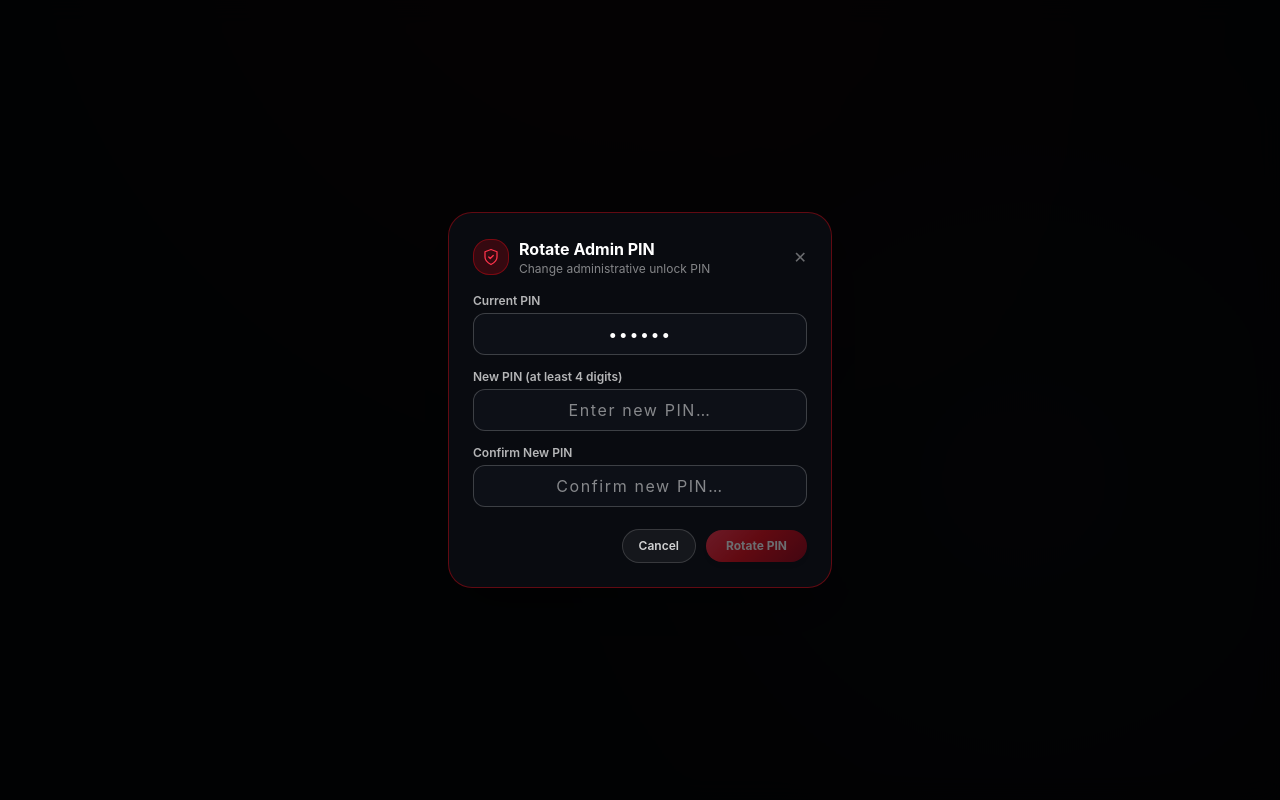
Test case: ChangeAdminPinModal › validates short PINs (< 4 digits)
This screenshot has width=1280, height=800.
Type "123" into the password field labelled "New PIN (at least 4 digits)" at (640, 410), box 473,389 -> 807,431
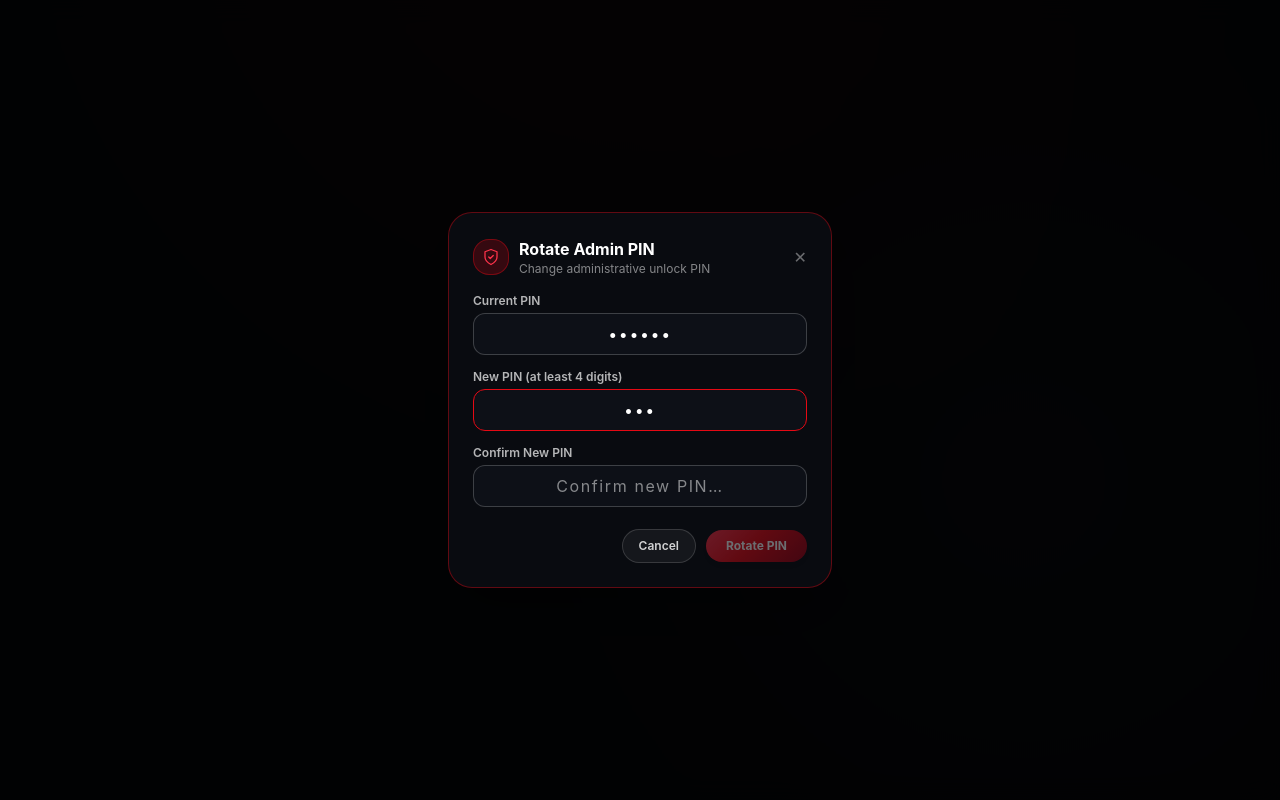
Type "123" into the password field labelled "Confirm New PIN" at (640, 486), box 473,465 -> 807,507
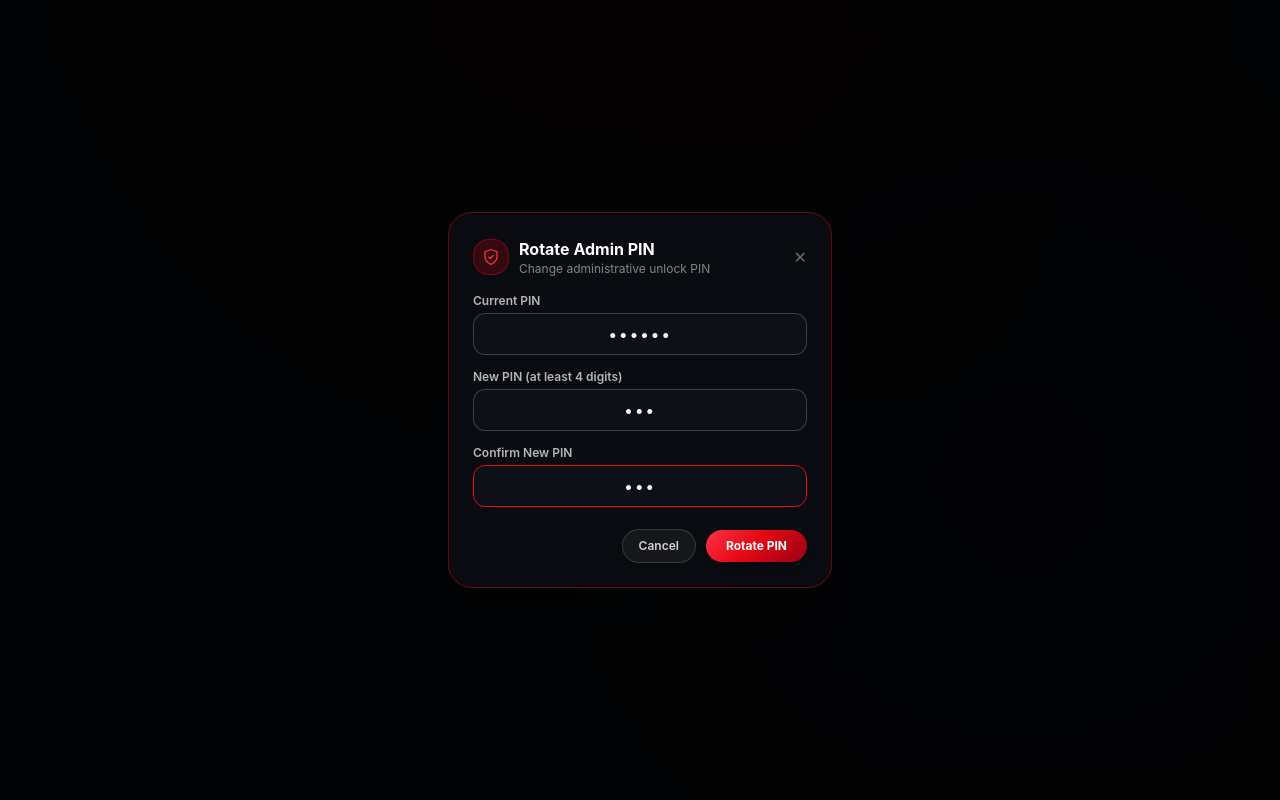
expect the button "Rotate PIN" is enabled: met
Click the button "Rotate PIN" at (756, 546), box 706,530 -> 807,562
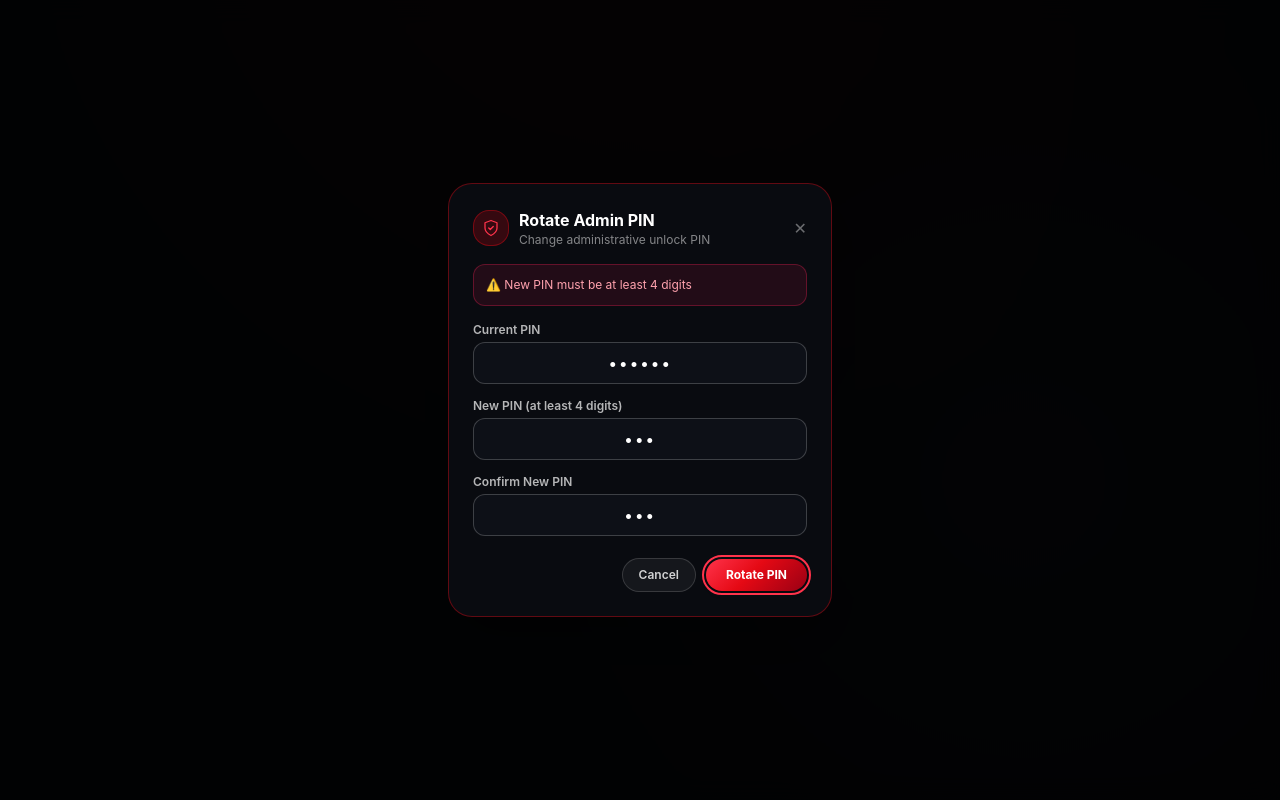
expect the text "⚠️ New PIN must be at least 4 digits" is shown: met, box 473,264 -> 807,306
